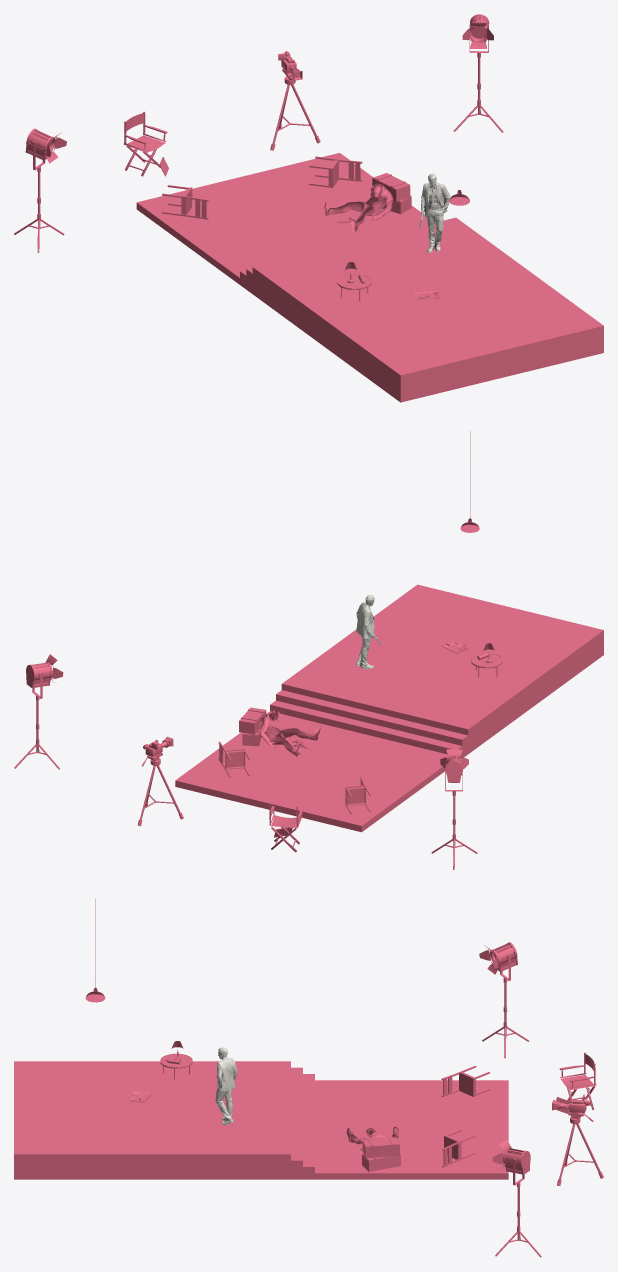
File: cameraman_scenery_fail.glb
The picture shows the model from 3 angles, top to bottom: view 1: azimuth 30°, elevation 25°; view 2: azimuth 150°, elevation 25°; view 3: azimuth 270°, elevation 25°; orthographic projection. The views are drawn at different scales.
Visible parts, largest first — view 1: Cube.3, Cube.5, Cube, Cube.4, rp_dennis_posed_004_30k, MORT, Cube.1; view 2: Cube.3, Cube.5, Cube.4, Cube, MORT, rp_dennis_posed_004_30k; view 3: Cube.3, Cube.5, Cube, Cube.4, Cube.1 (×2), rp_dennis_posed_004_30k.
Part boxes in pixels (bbox=[...]): Cube.3: bbox=[252, 217, 603, 381]; Cube.5: bbox=[136, 153, 603, 402]; Cube: bbox=[240, 270, 603, 395]; Cube.4: bbox=[246, 267, 603, 388]; rp_dennis_posed_004_30k: bbox=[421, 173, 450, 252]; MORT: bbox=[323, 183, 393, 231]; Cube.1: bbox=[372, 173, 410, 201]; Cube.3: bbox=[281, 584, 603, 735]; Cube.5: bbox=[175, 649, 603, 832]; Cube.4: bbox=[276, 636, 603, 745]; Cube: bbox=[270, 642, 603, 754]; MORT: bbox=[259, 710, 320, 756]; rp_dennis_posed_004_30k: bbox=[356, 595, 374, 669]; Cube.3: bbox=[14, 1061, 290, 1160]; Cube.5: bbox=[14, 1080, 508, 1179]; Cube: bbox=[14, 1074, 314, 1173]; Cube.4: bbox=[14, 1067, 302, 1166]; Cube.1 (×2): bbox=[362, 1137, 400, 1171]; rp_dennis_posed_004_30k: bbox=[215, 1047, 237, 1125].
Size of the model in its own units: 1002 by 519 by 1152.
Materials: 2 (1 with a texture image).
